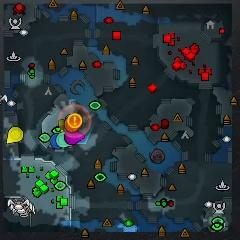Other: (68, 113, 82, 128)
p1: (50, 133, 60, 149)
p2: (56, 132, 70, 148)
p3: (64, 131, 86, 145)
p4: (6, 127, 24, 144)
p5: (65, 119, 79, 132)
